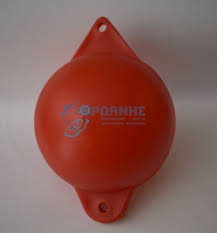buoy: (34, 55, 176, 190)
